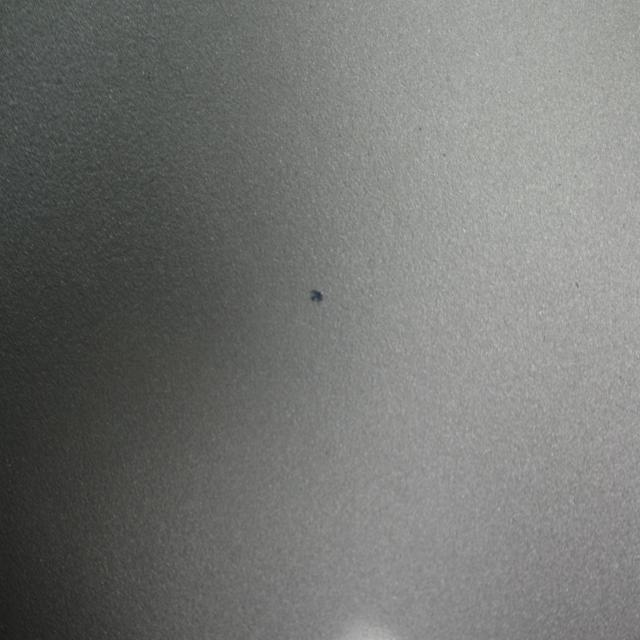dirt: (308, 284, 324, 306)
